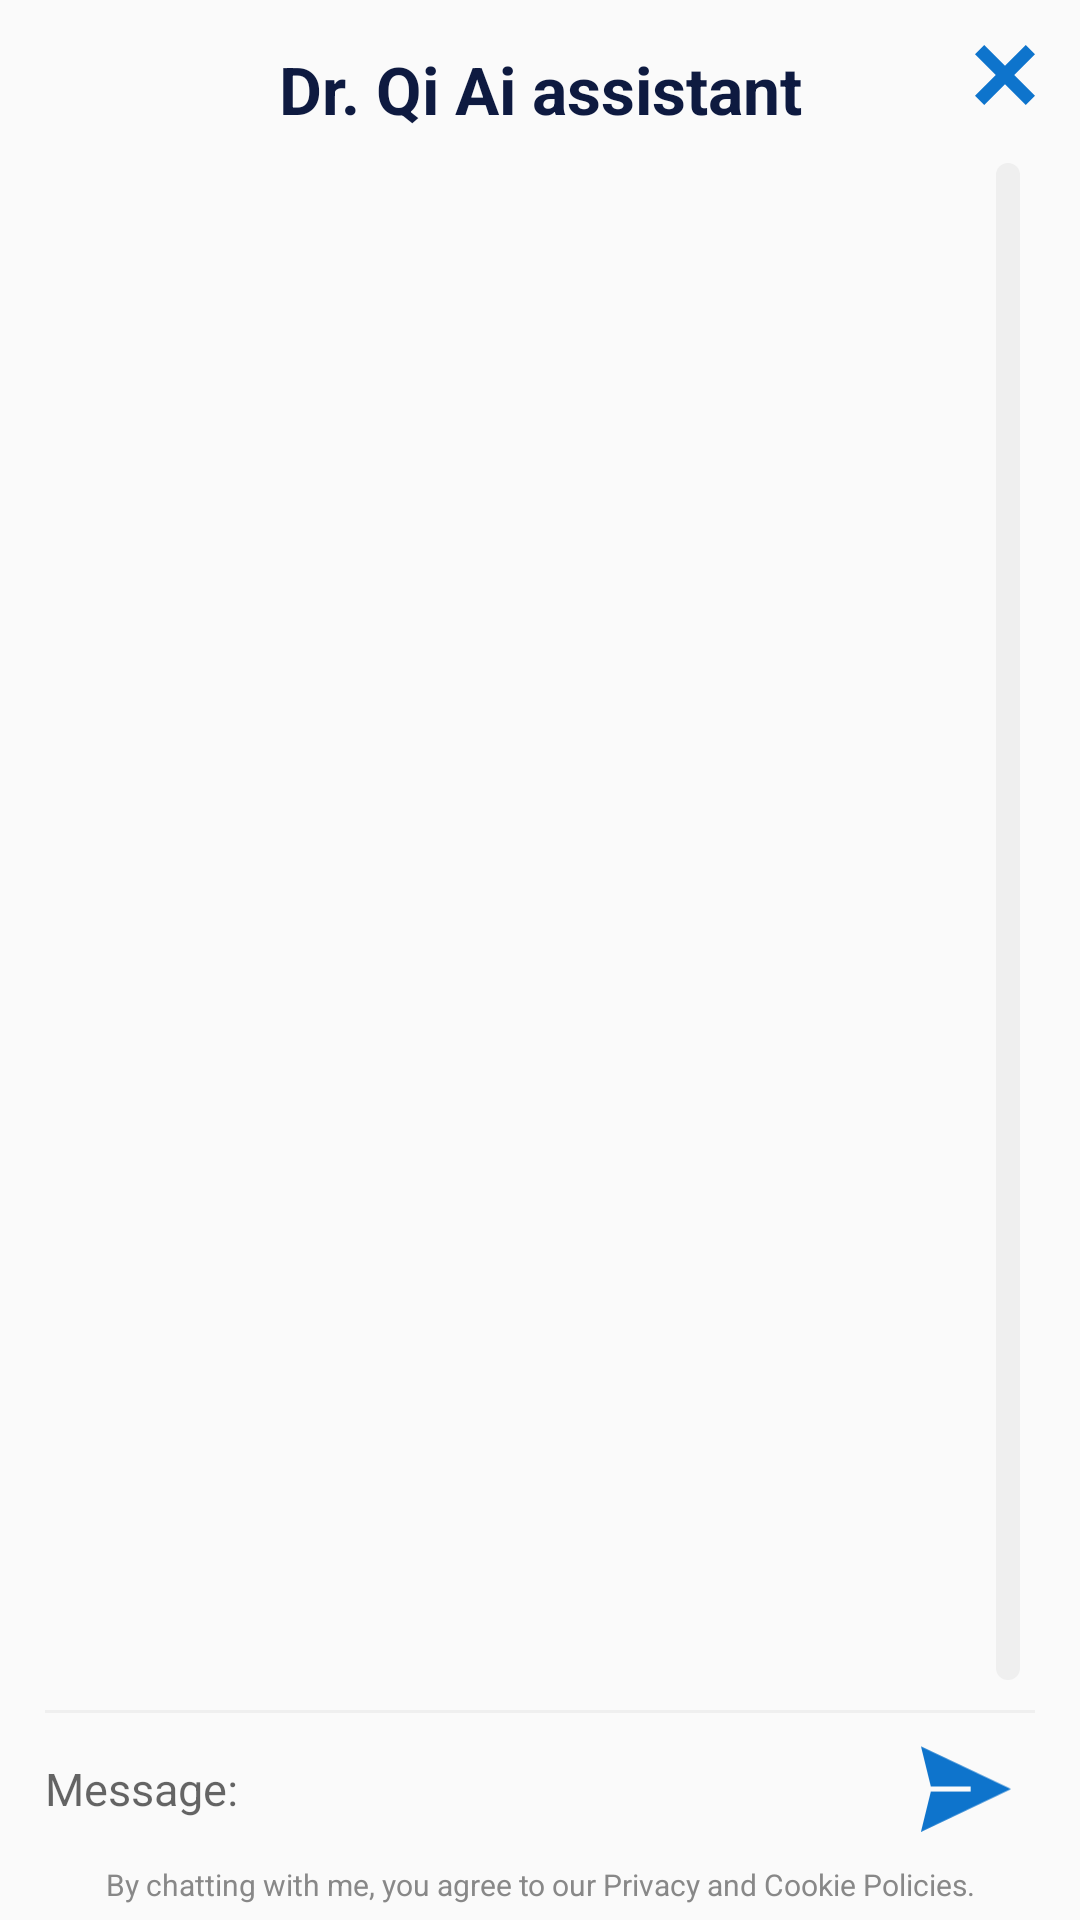

Screen size 1080*1920. Icon name, then its center in pixels as [x,y]:
close chatbot: [1005,75]
